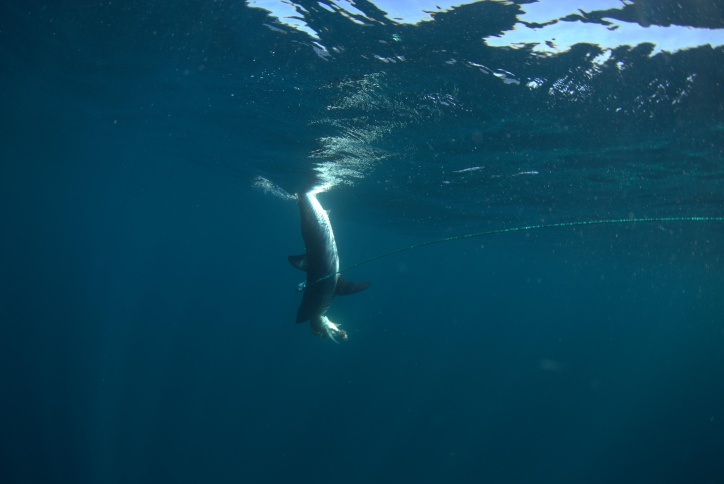Mako: (273, 183, 376, 328)
